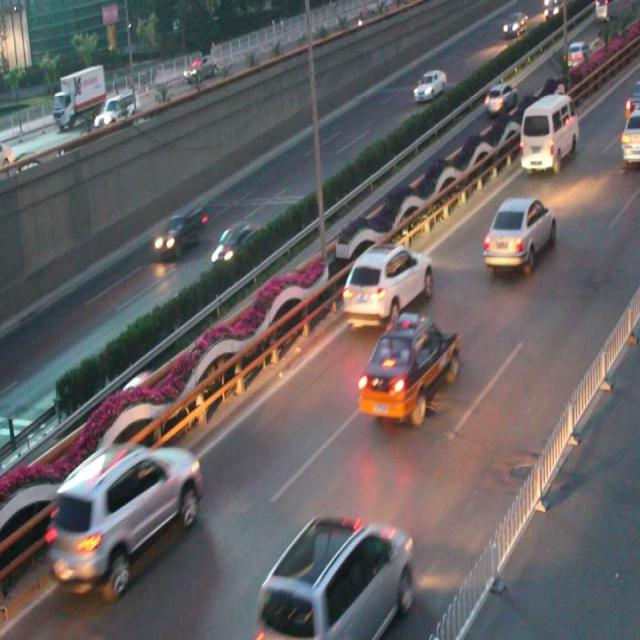car: (47, 442, 202, 595), (258, 508, 413, 640), (357, 319, 461, 425), (342, 240, 432, 327), (482, 194, 555, 273), (150, 202, 208, 260), (210, 218, 263, 268), (482, 80, 517, 118), (411, 67, 446, 105), (618, 111, 640, 165)
truck: (518, 92, 577, 176)
